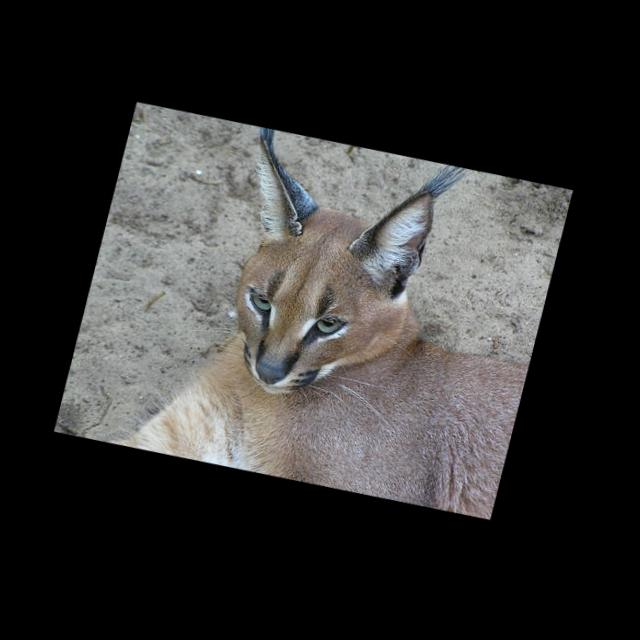animals: (205, 135, 435, 408)
